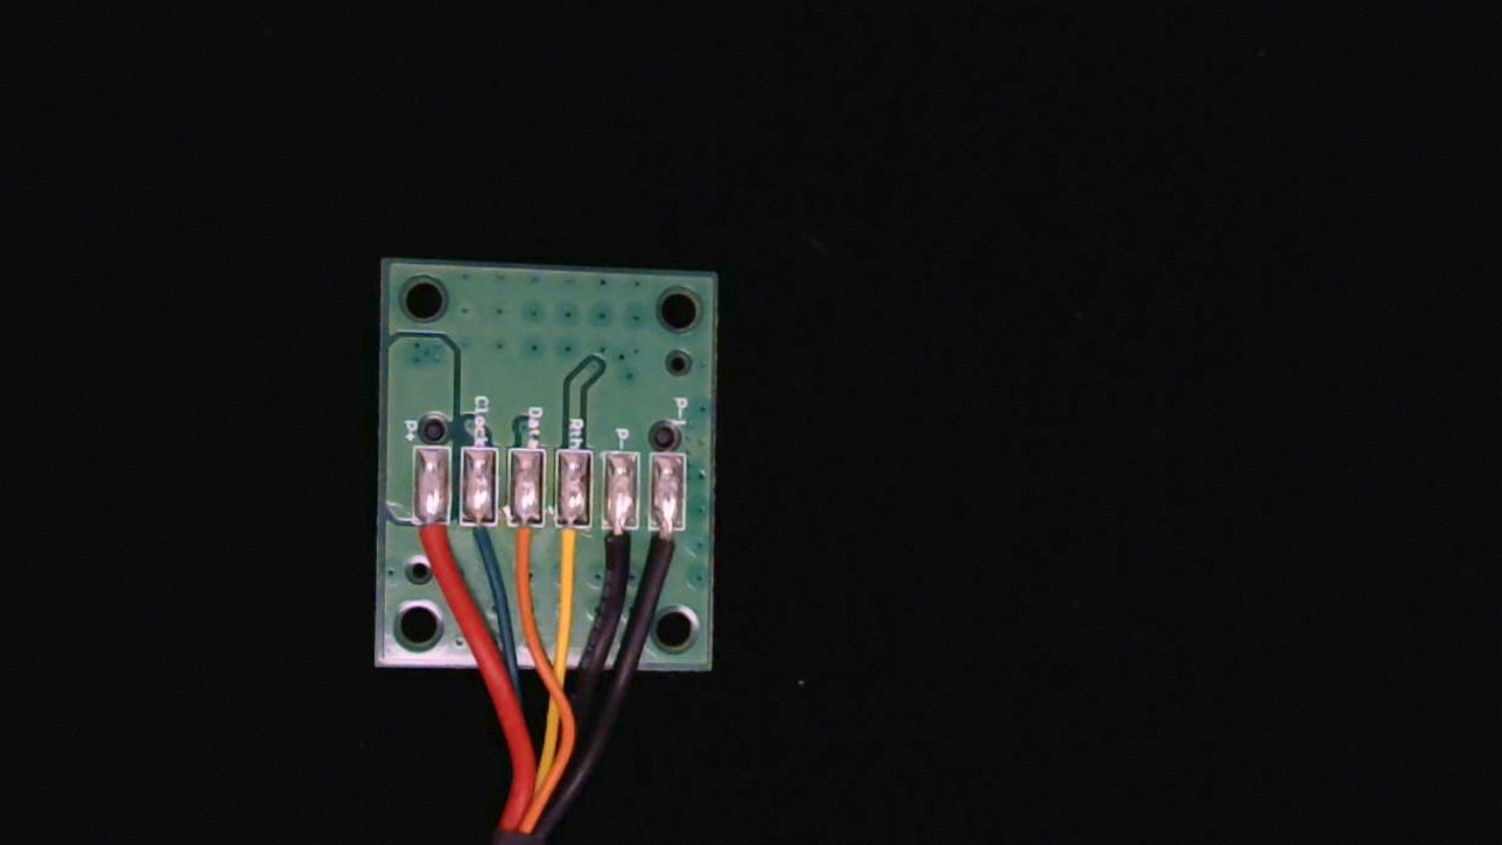Black: (599, 501, 642, 591)
Black1: (647, 506, 688, 587)
Green: (460, 491, 502, 577)
Orange: (505, 500, 546, 589)
Red: (413, 494, 456, 581)
Yellow: (553, 503, 595, 594)
